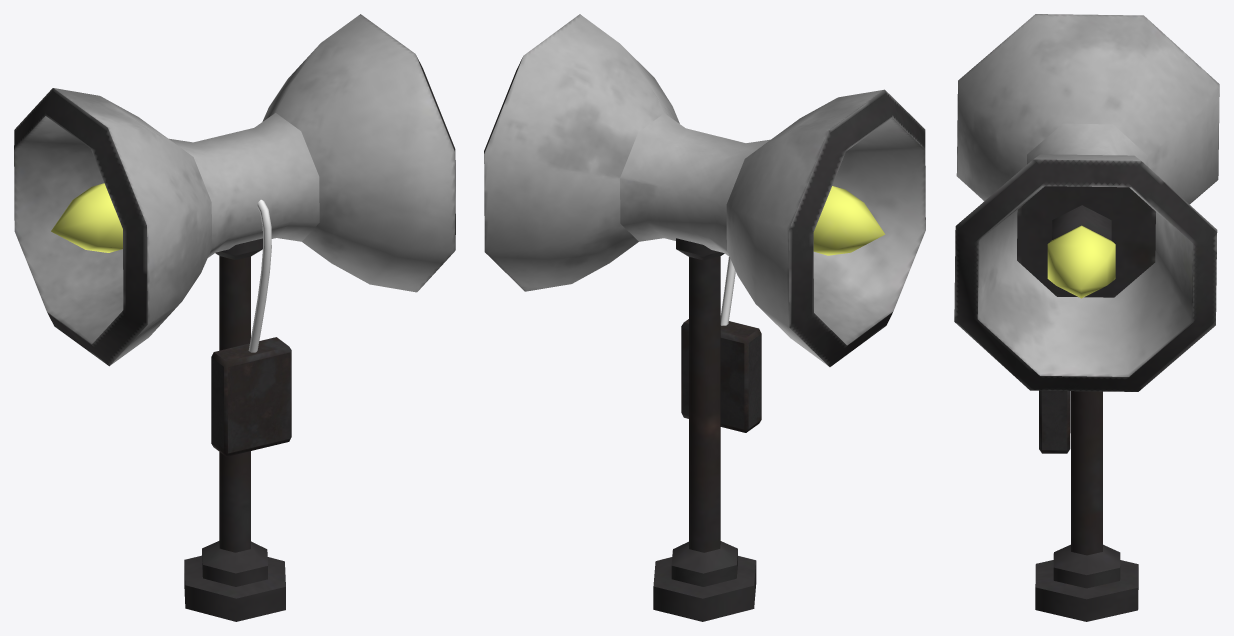
File: parlante_LOD0.gltf
3 renders of one model, left to right at view 1: azimuth 30°, elevation 25°; view 2: azimuth 150°, elevation 25°; view 3: azimuth 270°, elevation 25°, orthographic. The views are drawn at different scales.
Visible parts, largest first — view 1: Object_7.001; view 2: Object_7.001; view 3: Object_7.001.
Boxes of the visible parts, bbox=[...] form: Object_7.001: bbox=[14, 14, 455, 621]; Object_7.001: bbox=[484, 14, 925, 621]; Object_7.001: bbox=[954, 14, 1219, 621].
Size of the model in its own units: 2.56 by 3.53 by 1.66.
1 material, 1 textured.
